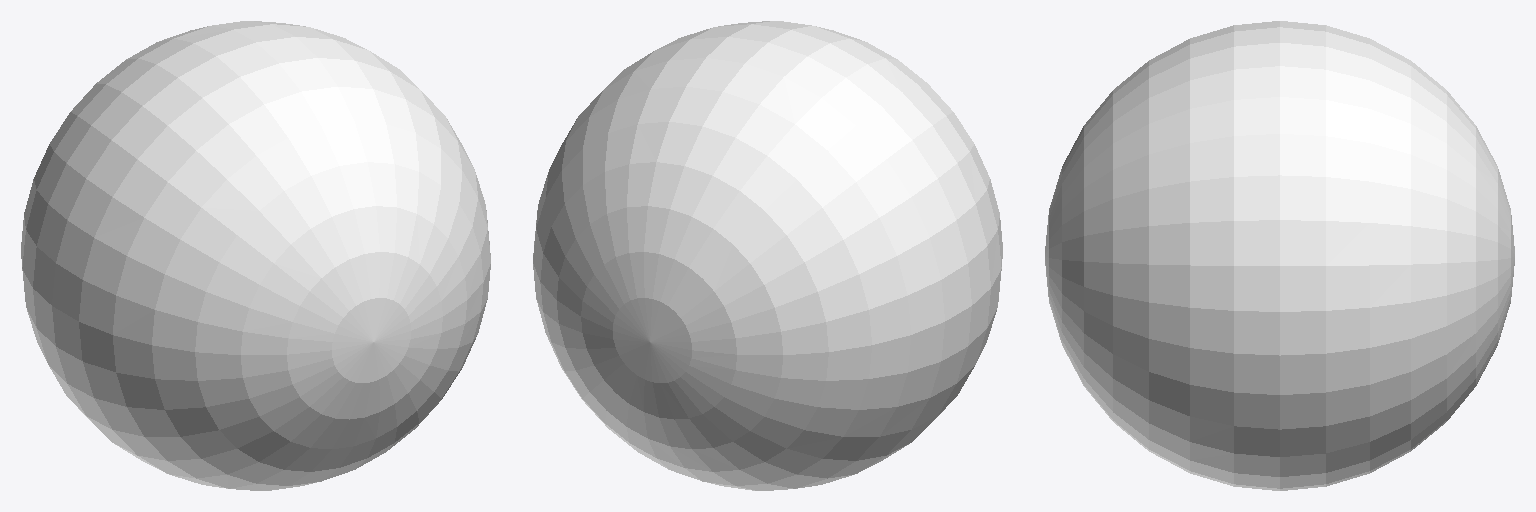
robot.urdf — sphere.urdf:
<?xml version="1.0" ?>
<robot name="sphere.urdf">

  <link name="sphere">
    <inertial>
      <origin rpy="0 0 0" xyz="0 0 0"/>
       <mass value="0.05"/>
       <inertia ixx="1" ixy="0" ixz="0" iyy="1" iyz="0" izz="1"/>
    </inertial>
    <visual>
      <origin rpy="0 0 0" xyz="0 0 0"/>
      <geometry>
        <mesh filename="sphere.obj" scale="1 1 1"/>
      </geometry>
      <material name="white">
       <color rgba="1.0 1.0 1.0 1.0"/>
     </material>
    </visual>
    <collision>
      <origin rpy="0 0 0" xyz="0 0 0"/>
      <geometry>
				<sphere radius="0.0025"/>
      </geometry>
    </collision>
  </link>
</robot>

--- Render facts (derived) ---
3 views of the same robot in one strip: view 1: azimuth 30°, elevation 25°; view 2: azimuth 150°, elevation 25°; view 3: azimuth 270°, elevation 25° (orthographic).
Model sphere.urdf with 1 links and 0 joints (none), rooted at sphere, posed all joints at 0.
Links seen in each view (by area): view 1: sphere; view 2: sphere; view 3: sphere.
Link boxes in pixels (bbox=[...]): sphere: bbox=[21, 21, 490, 490]; sphere: bbox=[533, 21, 1002, 490]; sphere: bbox=[1045, 21, 1514, 490].
Bounding box of the posed robot: 0.005 × 0.005 × 0.005 m (x, y, z).
1 mesh visuals loaded from 1 distinct referenced files (1 OBJ).